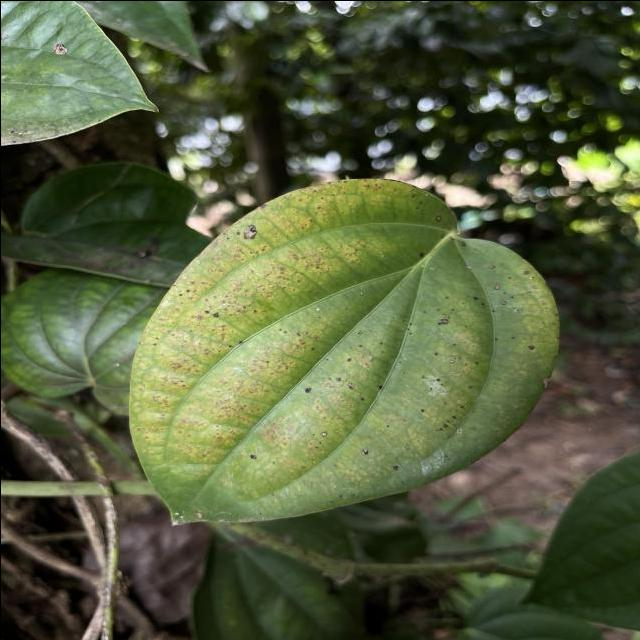Piper nigrum: (126, 174, 562, 529)
